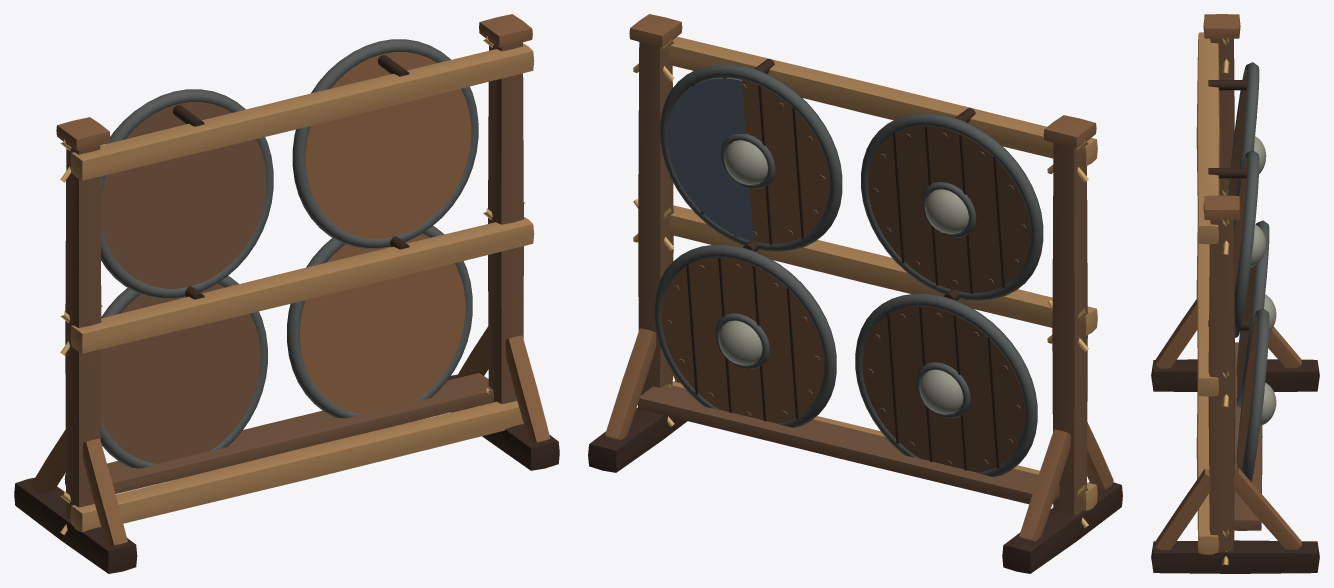
Rendered from detail_shield_rack.glb.
3 renders of one model, left to right at view 1: azimuth 30°, elevation 25°; view 2: azimuth 150°, elevation 25°; view 3: azimuth 270°, elevation 25°, orthographic. The views are drawn at different scales.
Visible parts, largest first — view 1: wood, metal; view 2: wood, metal, cloth; view 3: wood, metal, cloth.
Boxes of the visible parts, x1,y1,x2,y2 form: wood: [14, 14, 559, 573]; metal: [100, 39, 478, 468]; wood: [588, 14, 1122, 573]; metal: [654, 64, 1043, 476]; cloth: [633, 38, 1088, 527]; wood: [1151, 14, 1319, 573]; metal: [1227, 62, 1276, 493]; cloth: [1222, 38, 1229, 565].
Bounding box in the file's own units: 1.4 × 1.2 × 0.5.
